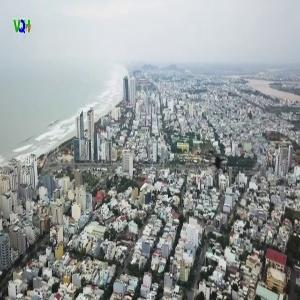drone: (189, 137, 247, 195)
